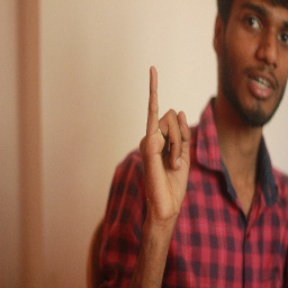I: (139, 66, 193, 220)
